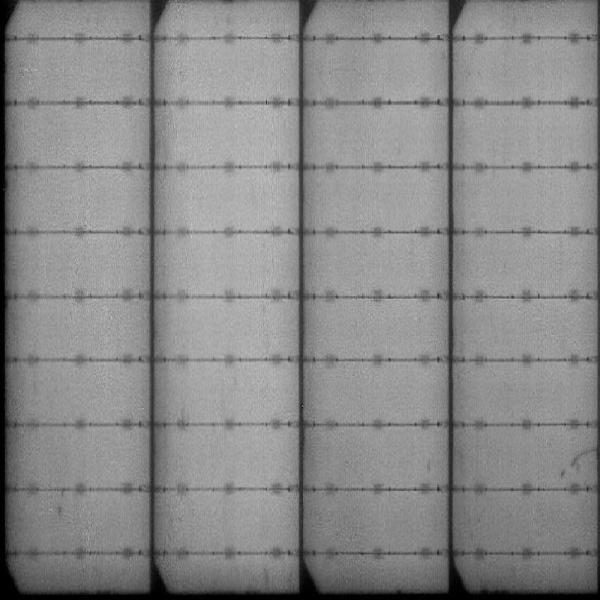scratch: (556, 446, 599, 478)
